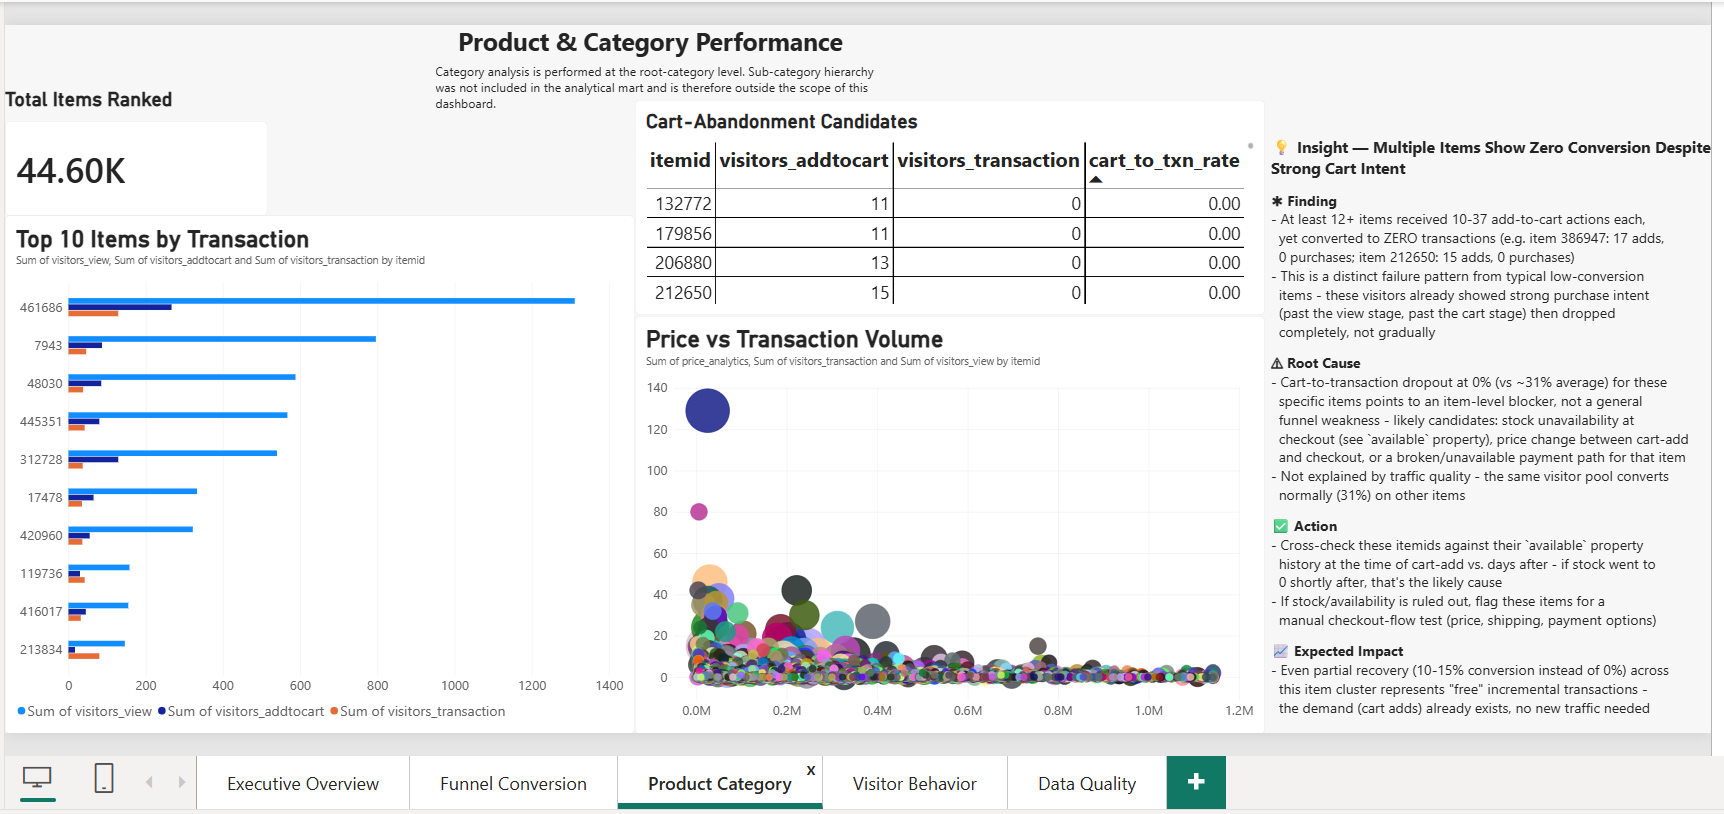

What the dashboard file says about the page in this screenshot:
{"tool":"powerbi","page":{"name":"Product_Category","canvas":[1920,1080],"ordinal":2},"visuals":[{"type":"textbox","box":[691.4,0,595.4,78.7],"z":0},{"type":"textbox","box":[655,57.5,680,75],"z":1},{"type":"cardVisual","title":"Total Items Ranked","fields":{"Data":["kpi_summary.Total Items Ranked"]},"box":[0,95,400,195],"z":2},{"type":"clusteredBarChart","title":"Top 10 Items by Transaction","fields":{"Category":["mart_item_performance.itemid"],"Y":["Sum(mart_item_performance.visitors_view)","Sum(mart_item_performance.visitors_addtocart)","Sum(mart_item_performance.visitors_transaction)"]},"box":[0,290,960,790],"z":3},{"type":"tableEx","title":"Cart-Abandonment Candidates","fields":{"Values":["mart_item_performance.itemid","mart_item_performance.visitors_addtocart","mart_item_performance.visitors_transaction","mart_item_performance.cart_to_txn_rate"]},"box":[960,115,960,327.5],"z":4},{"type":"scatterChart","title":"Price vs Transaction Volume","fields":{"X":["Sum(mart_item_performance.price_analytics)"],"Y":["Sum(mart_item_performance.visitors_transaction)"],"Size":["Sum(mart_item_performance.visitors_view)"],"Series":["mart_item_performance.itemid"]},"box":[960,442.5,960,637.5],"z":5}]}

Visuals, with their boxes on the page's 1920x1080 design canvas (x1, y1, x2, y2). These are canvas units, not pixel positions in the 1724x814 screenshot, which may show the page scaled, cropped or inside an application window:
textbox: bbox=(691, 0, 1287, 79)
textbox: bbox=(655, 58, 1335, 132)
"Total Items Ranked" cardVisual: bbox=(0, 95, 400, 290)
"Top 10 Items by Transaction" clusteredBarChart: bbox=(0, 290, 960, 1080)
"Cart-Abandonment Candidates" tableEx: bbox=(960, 115, 1920, 442)
"Price vs Transaction Volume" scatterChart: bbox=(960, 442, 1920, 1080)
